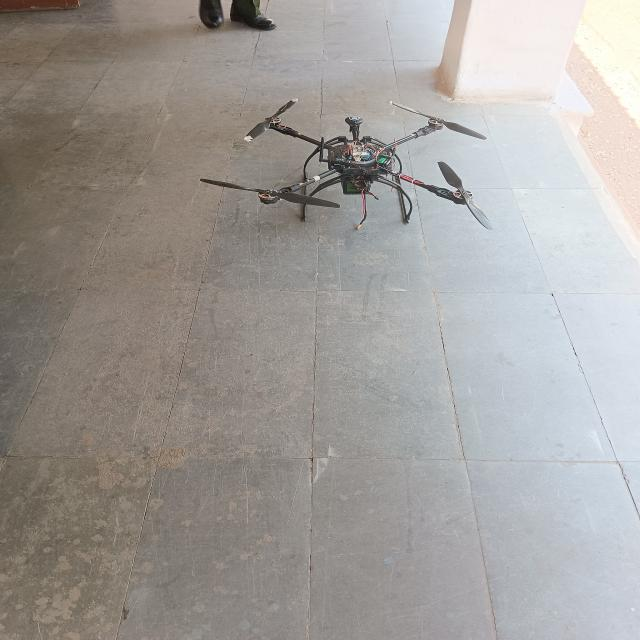drone: (174, 85, 516, 248)
